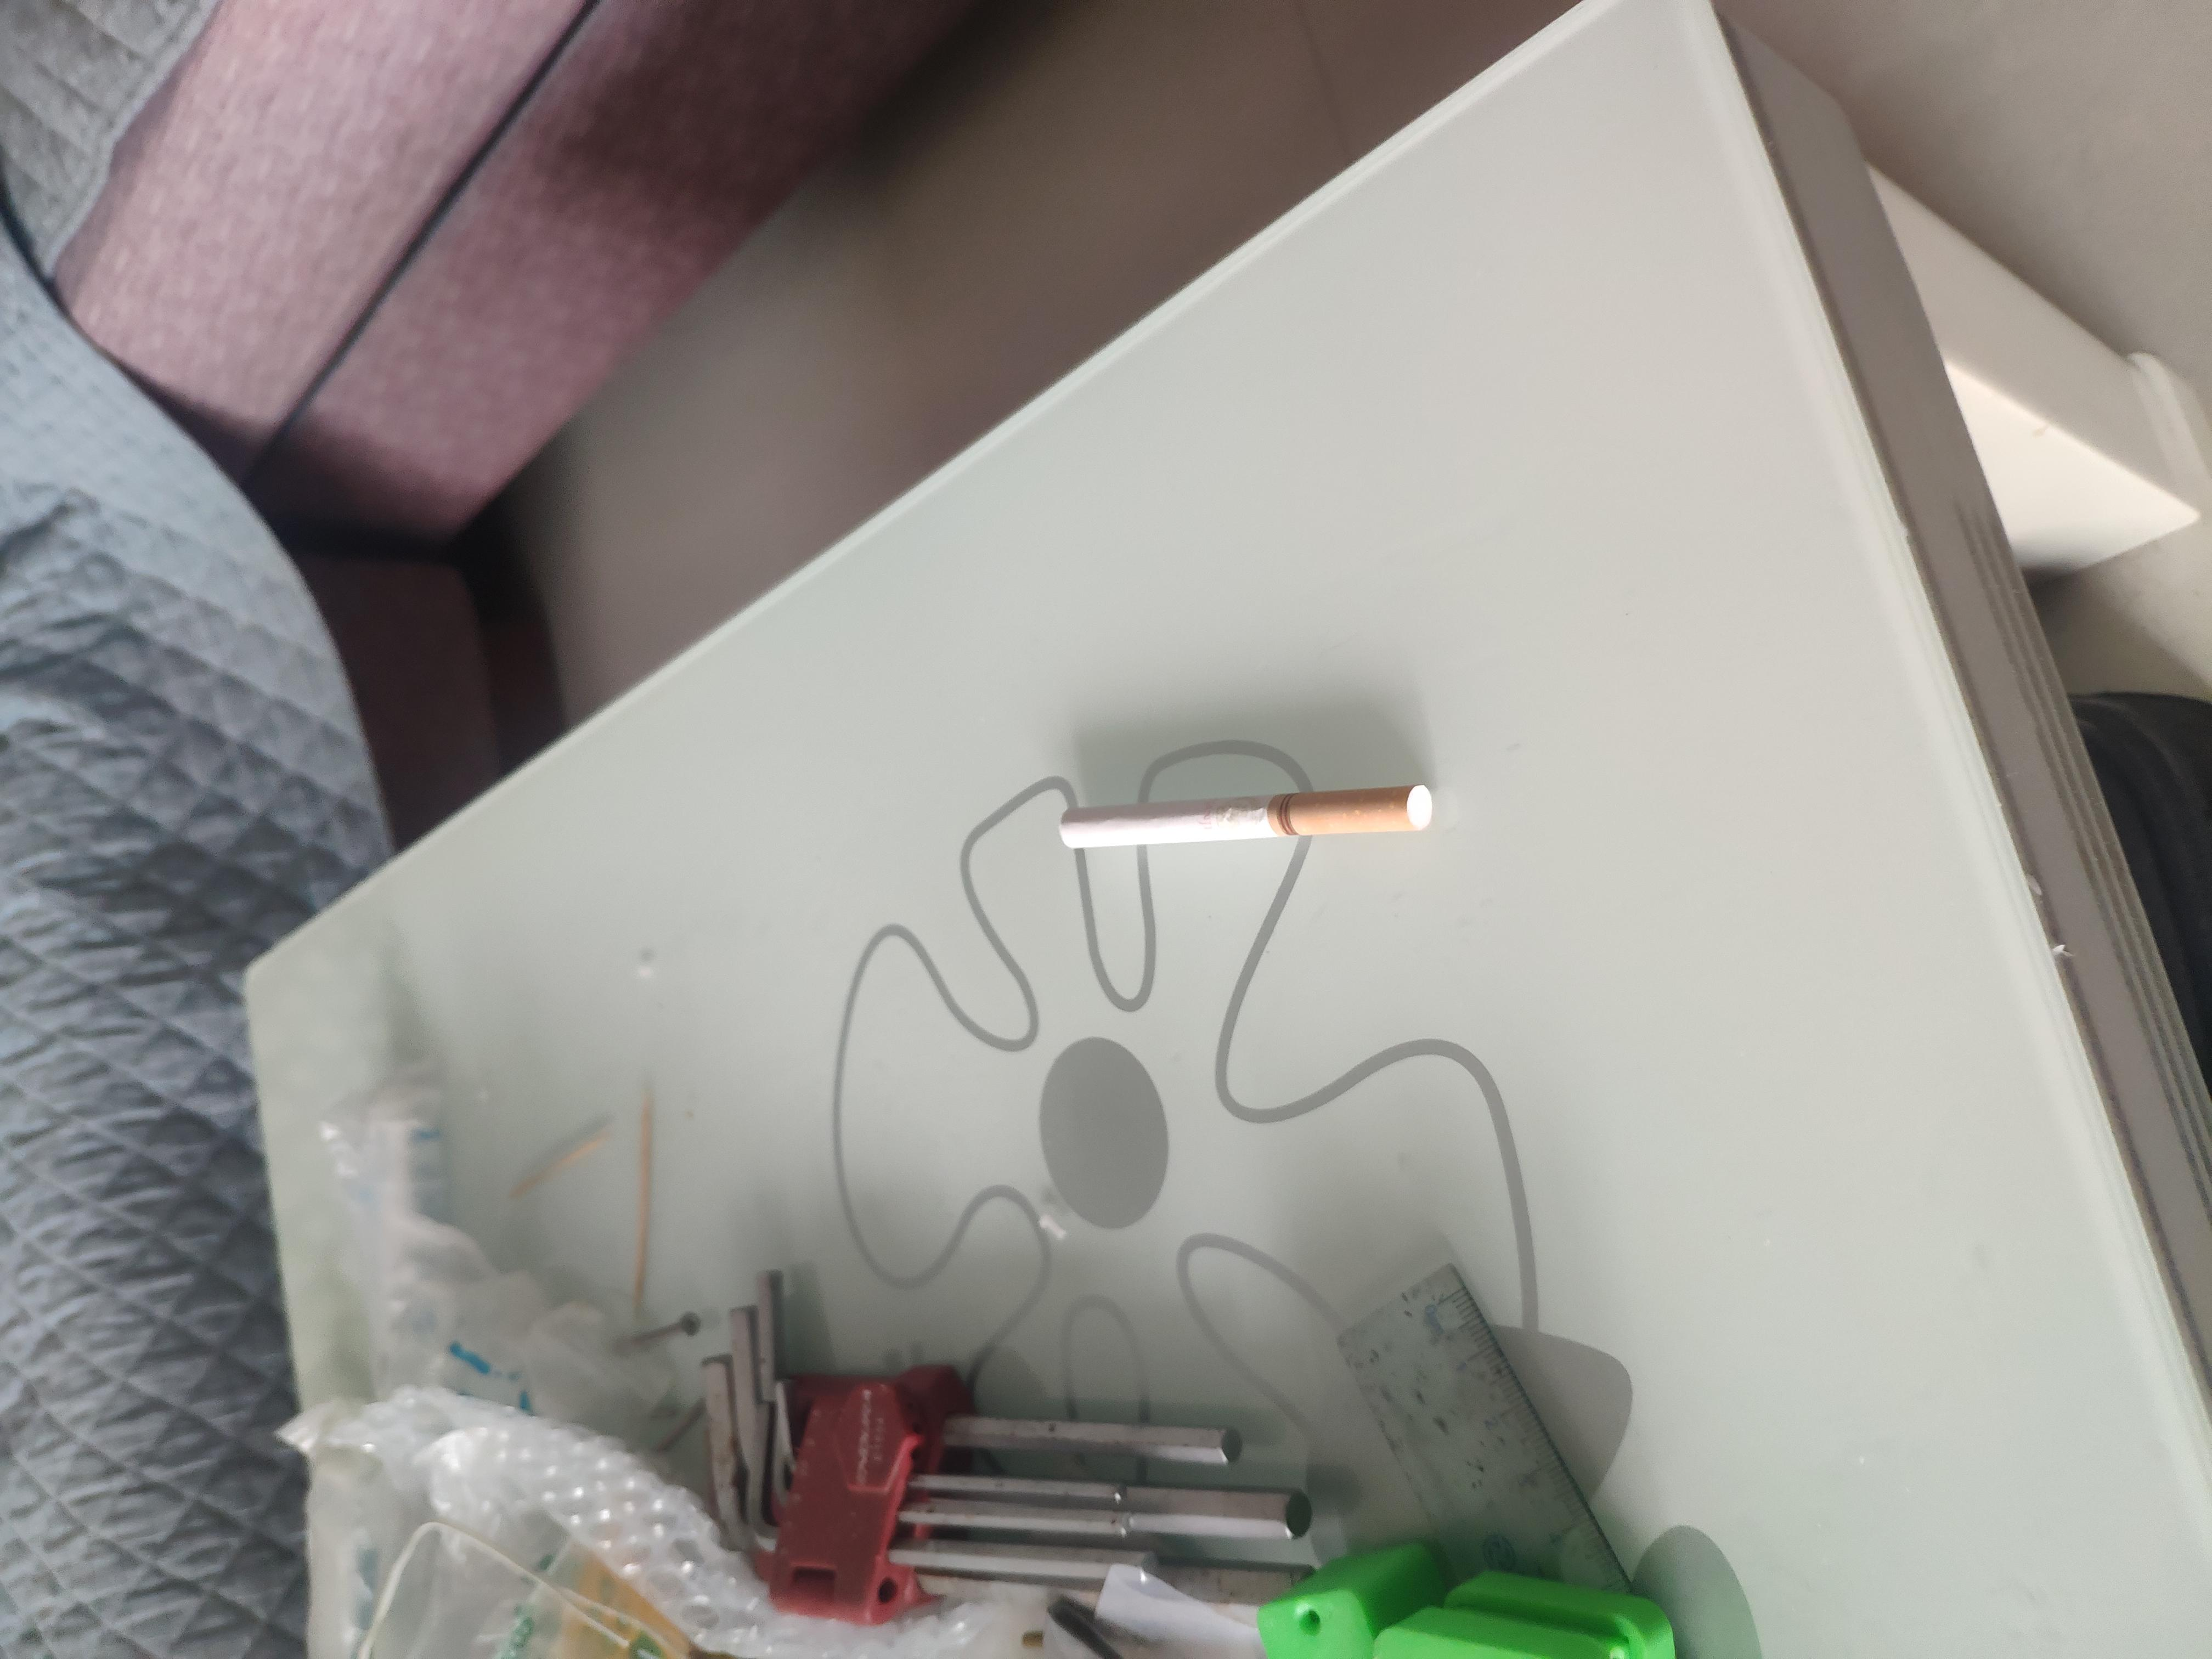smoke: (1080, 793, 1179, 1073)
